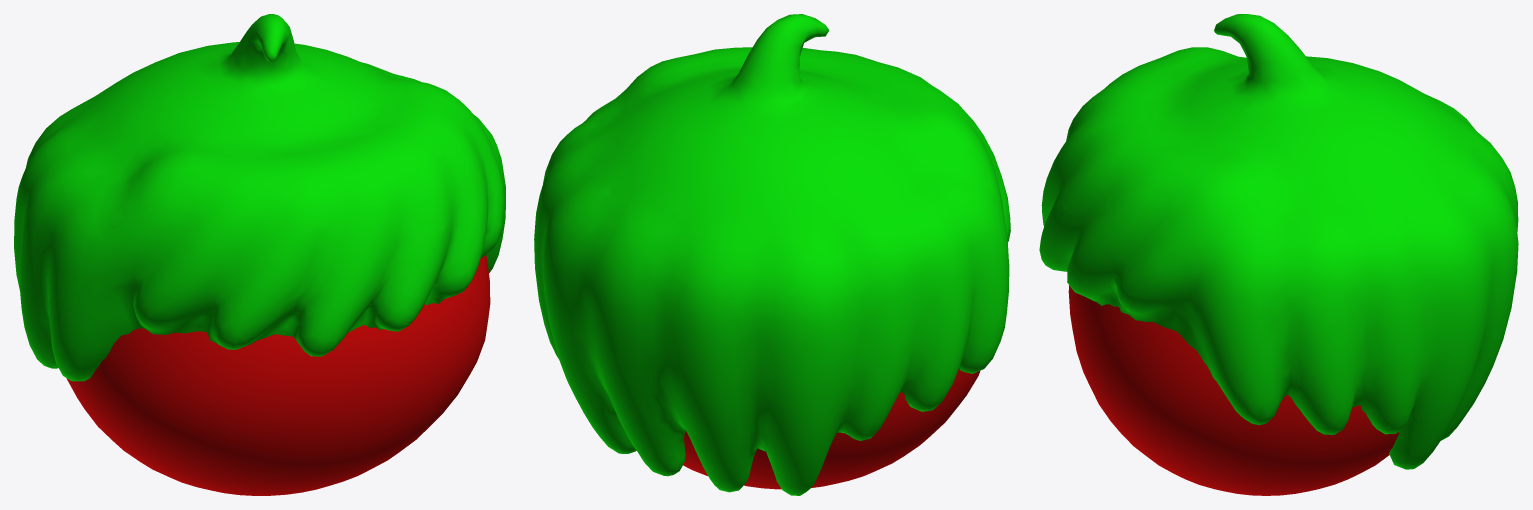
The model's file is bramble_head.glb.
3 renders of one model, left to right at view 1: azimuth 30°, elevation 25°; view 2: azimuth 150°, elevation 25°; view 3: azimuth 270°, elevation 25°, orthographic. The views are drawn at different scales.
Parts seen in each view (by area): view 1: BrambleHead; view 2: BrambleHead; view 3: BrambleHead.
Part boxes in pixels (x1,y1,x2,y2): BrambleHead: [14, 14, 505, 495]; BrambleHead: [534, 14, 1010, 495]; BrambleHead: [1039, 14, 1518, 495].
Size of the model in its own units: 0.5735 by 0.5712 by 0.5455.
